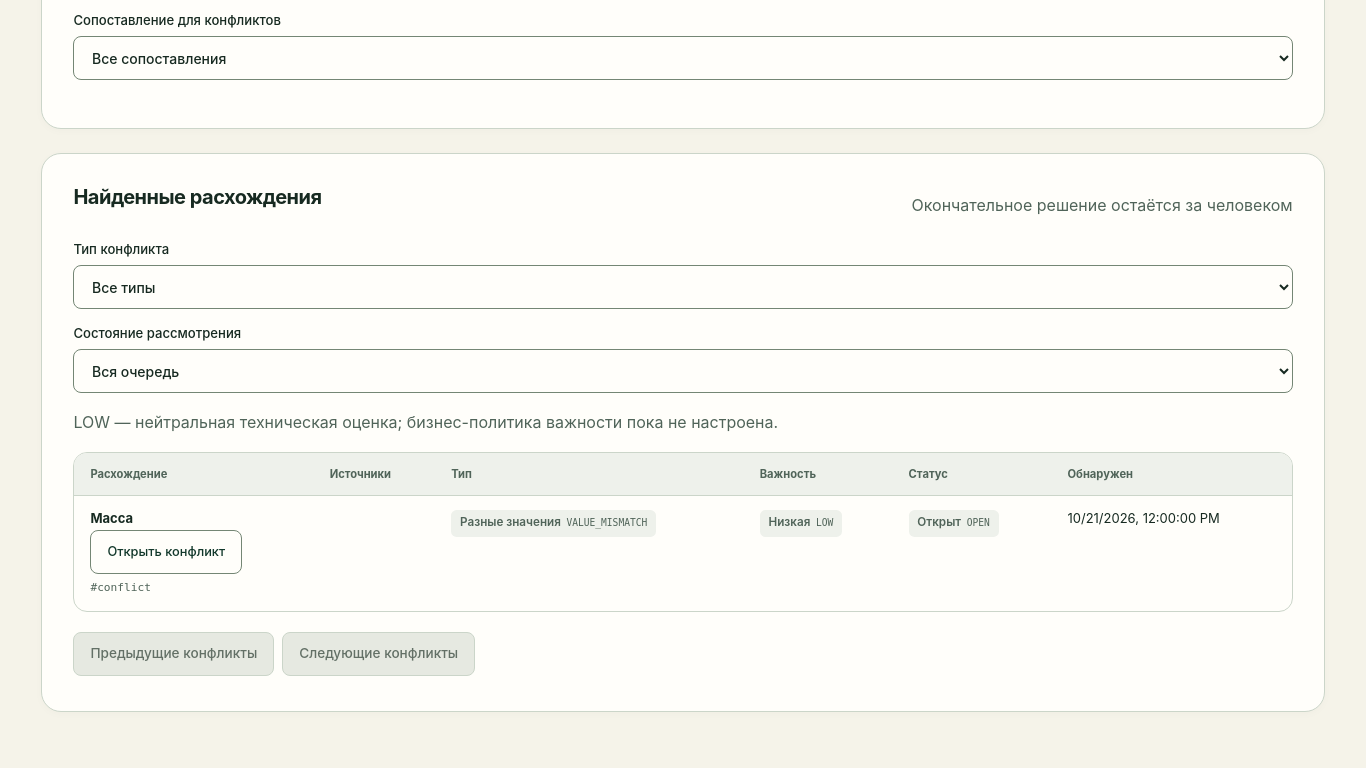
Test: does not describe an omitted long raw value as absent
(page scrolled)
Click the button "Открыть конфликт".
click(166, 552)  # box [90,530,242,574]
(page scrolled)
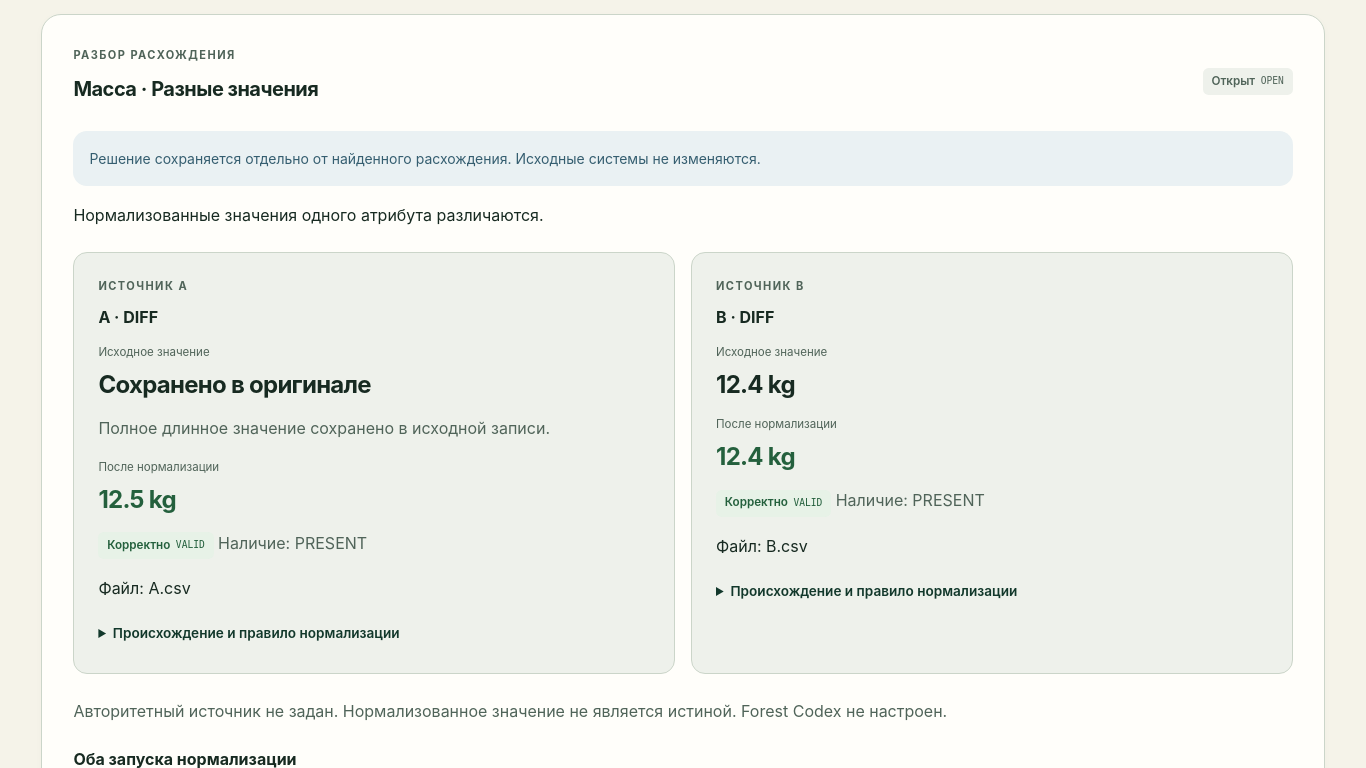
Expected: the text "Сохранено в оригинале" is shown, [98,370,371,399]
